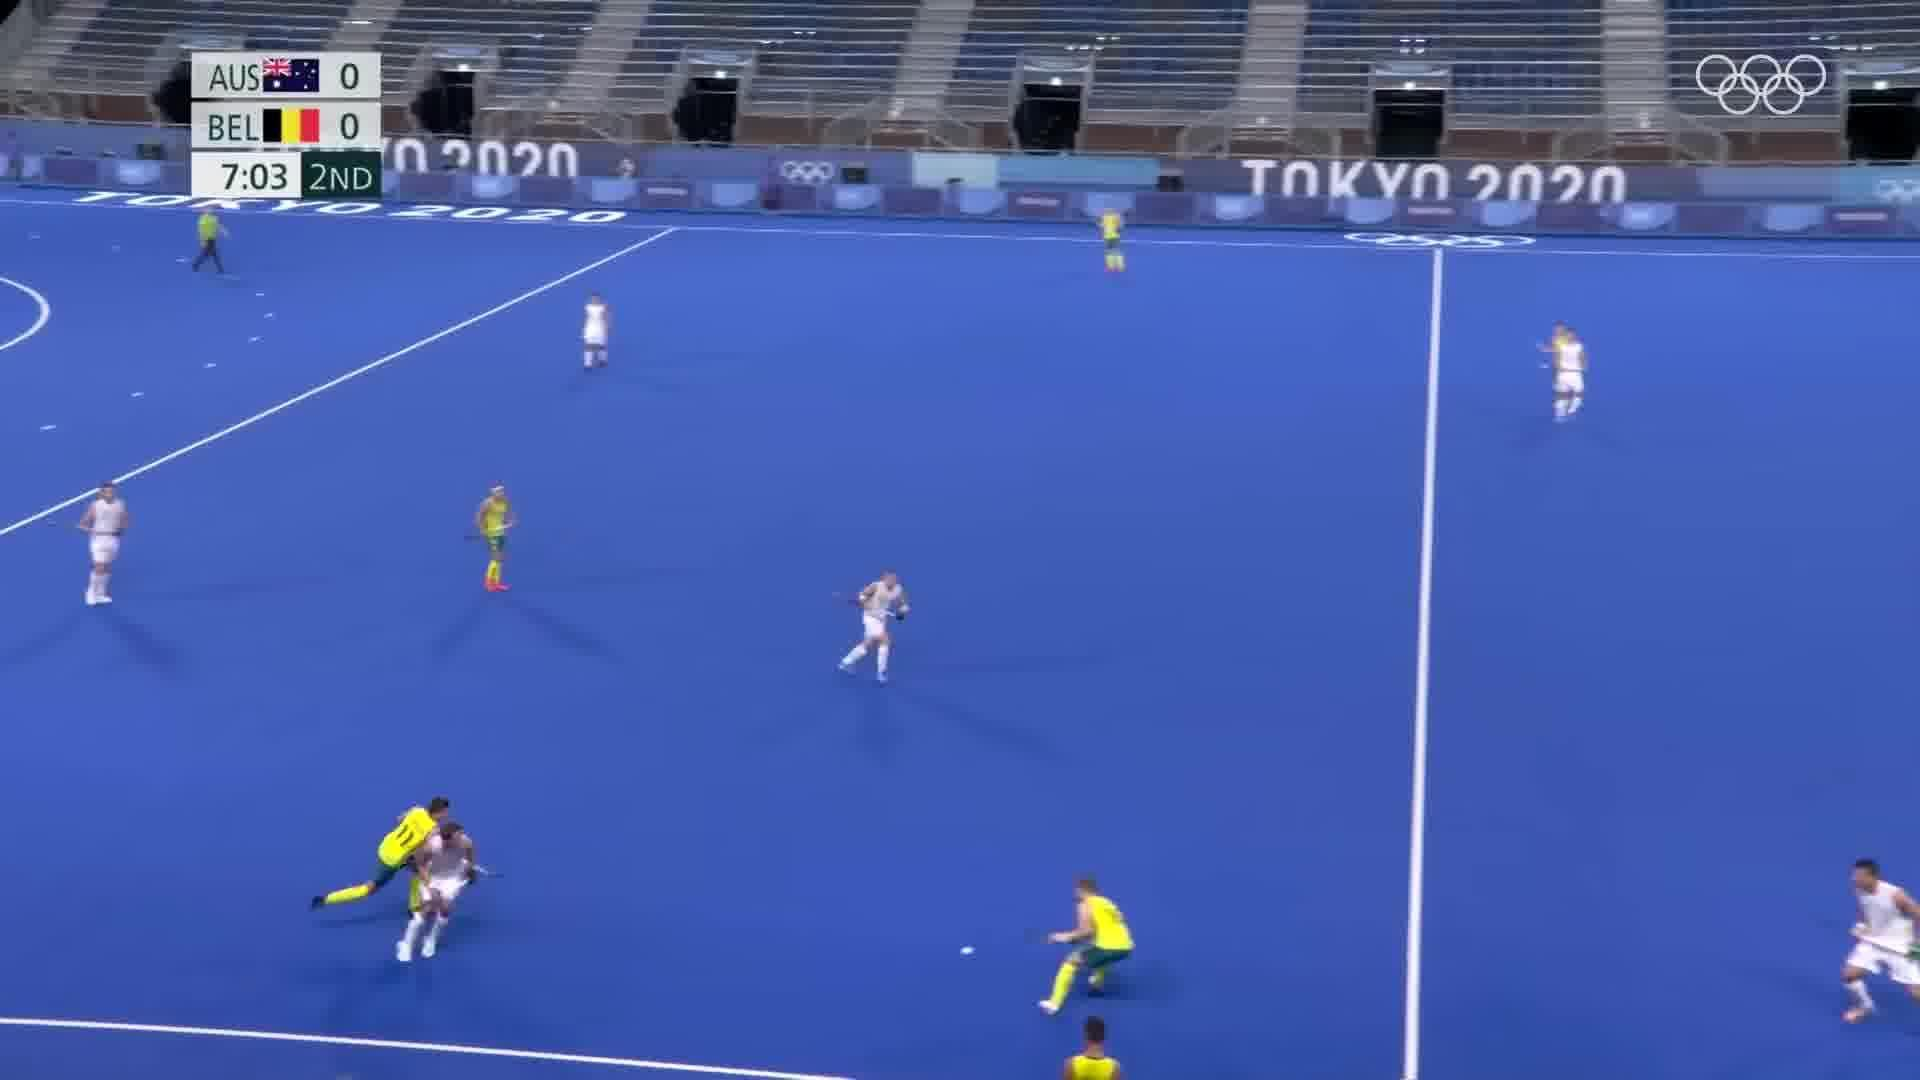ball: (952, 942, 981, 963)
